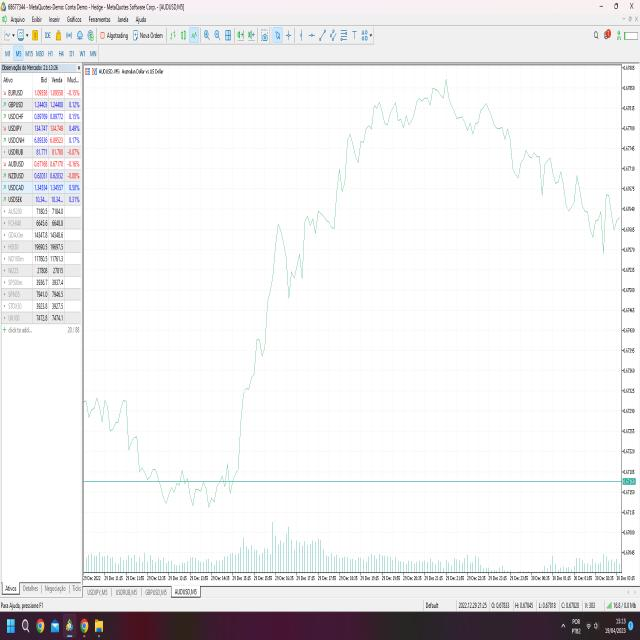bandeira_alta: (226, 199, 344, 492)
